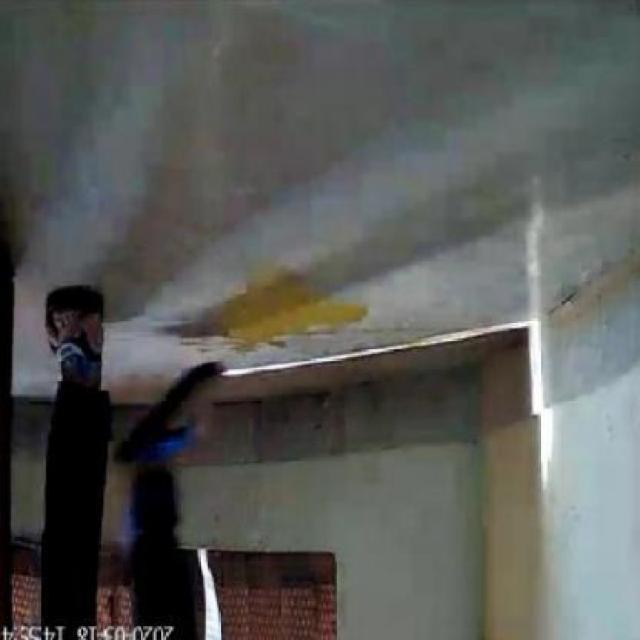spillage: (216, 273, 371, 347)
